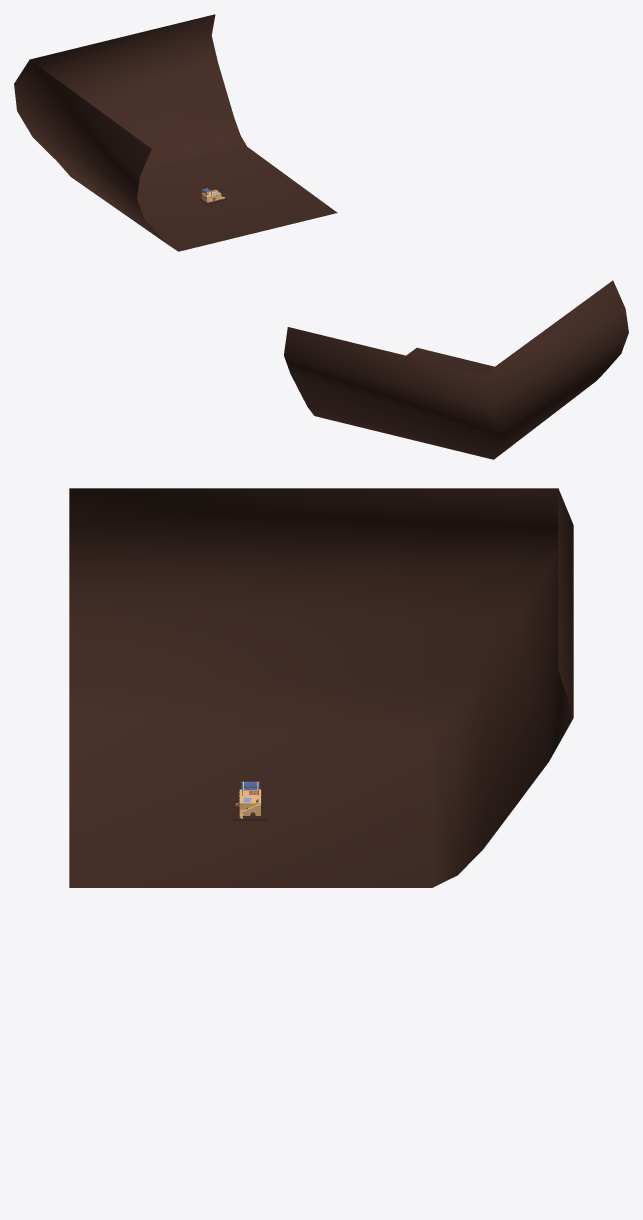
The model's file is house.glb.
3 renders of one model, top to bottom at view 1: azimuth 30°, elevation 25°; view 2: azimuth 150°, elevation 25°; view 3: azimuth 270°, elevation 25°, orthographic. The views are drawn at different scales.
Parts seen in each view (by area): view 1: Plane.001; view 2: Plane.001; view 3: Plane.001.
Part boxes in pixels (x1,y1,x2,y2): Plane.001: (14,14,337,251); Plane.001: (284,280,628,459); Plane.001: (69,488,573,887).
Size of the model in its own units: 728 by 141 by 296.
